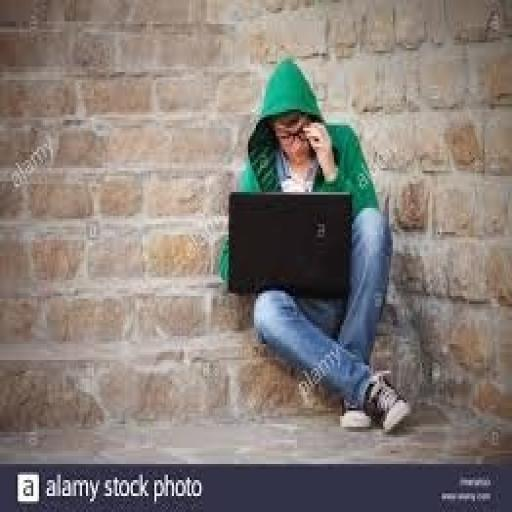using_laptop: (224, 186, 354, 298)
